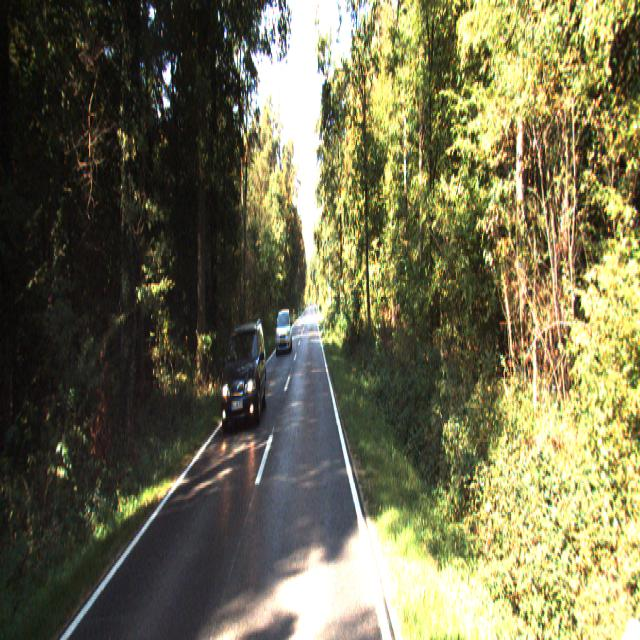Car: (216, 318, 269, 436), (274, 310, 292, 354)
